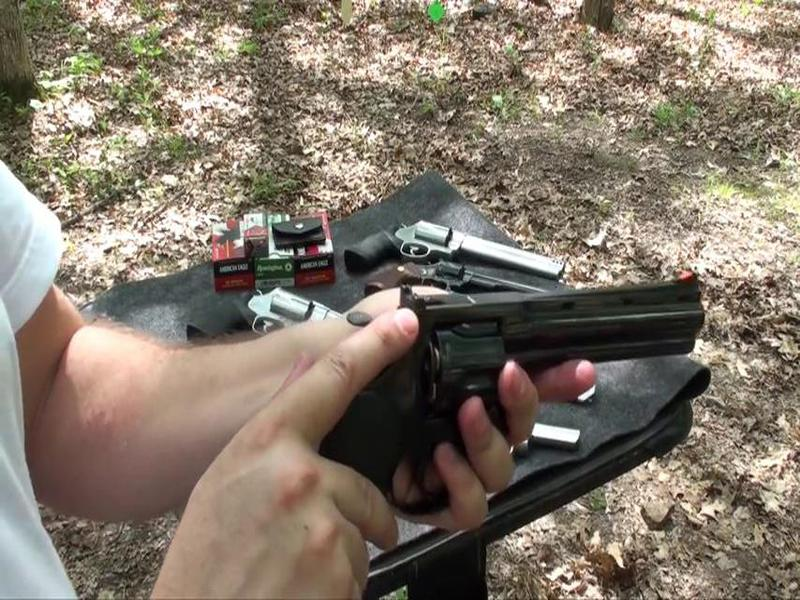Revolver: (279, 264, 729, 526)
